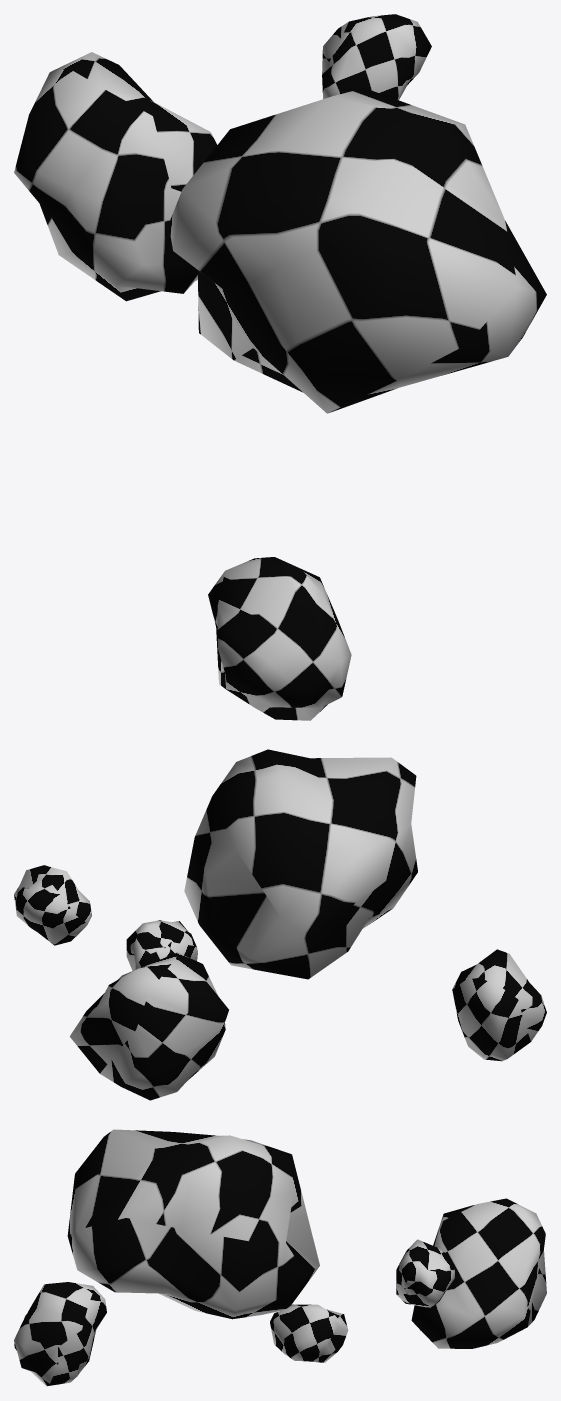
Rendered from cluster_mars_small_asteroid02.obj.
3 renders of one model, top to bottom at view 1: azimuth 30°, elevation 25°; view 2: azimuth 150°, elevation 25°; view 3: azimuth 270°, elevation 25°, orthographic. The views are drawn at different scales.
Visible parts, largest first — view 1: cluster; view 2: cluster; view 3: cluster.
Part boxes in pixels (x1=…): cluster: x1=14, y1=14, x2=546, y2=720; cluster: x1=14, y1=749, x2=546, y2=1100; cluster: x1=14, y1=1129, x2=546, y2=1386.
Size of the model in its own units: 498 by 460 by 734.
Materials: 1 (1 with a texture image).
